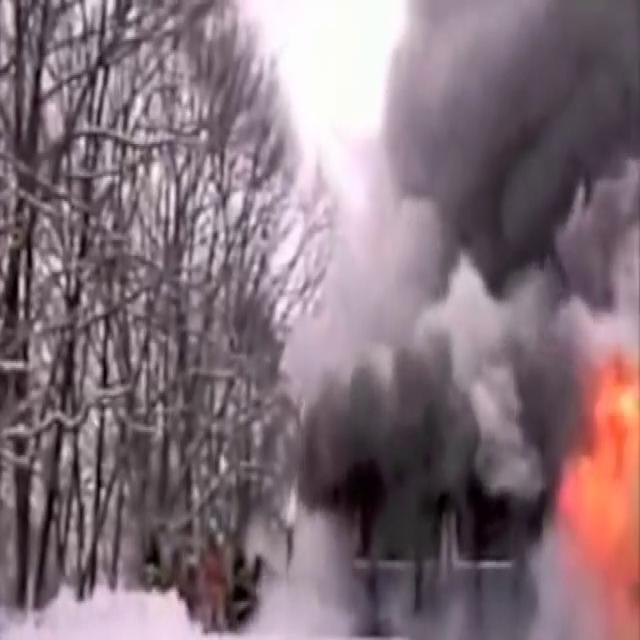Fire: (558, 360, 640, 634)
Smoke: (233, 0, 640, 613)
